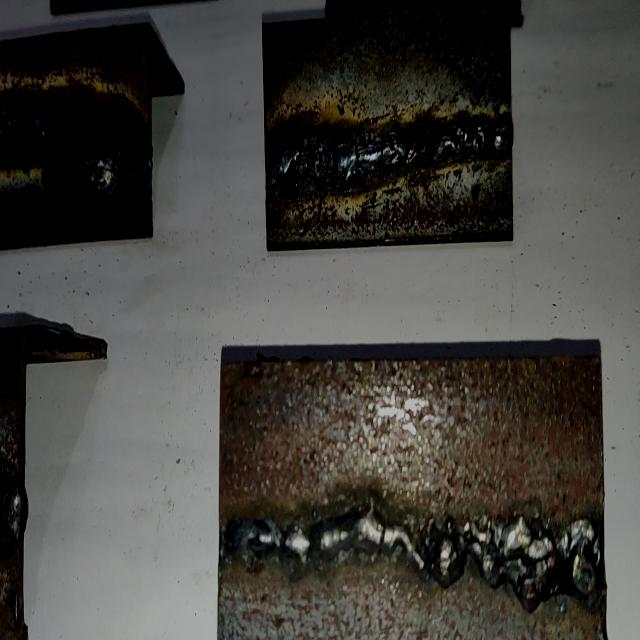Bad Weld: (228, 501, 601, 619), (271, 120, 508, 186)
Defect: (485, 489, 602, 625), (0, 108, 146, 190), (404, 104, 507, 200), (277, 106, 352, 202)
